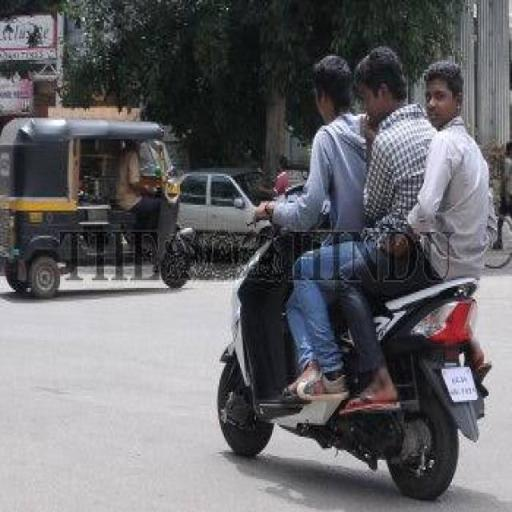tripple riding: (178, 38, 502, 501)
